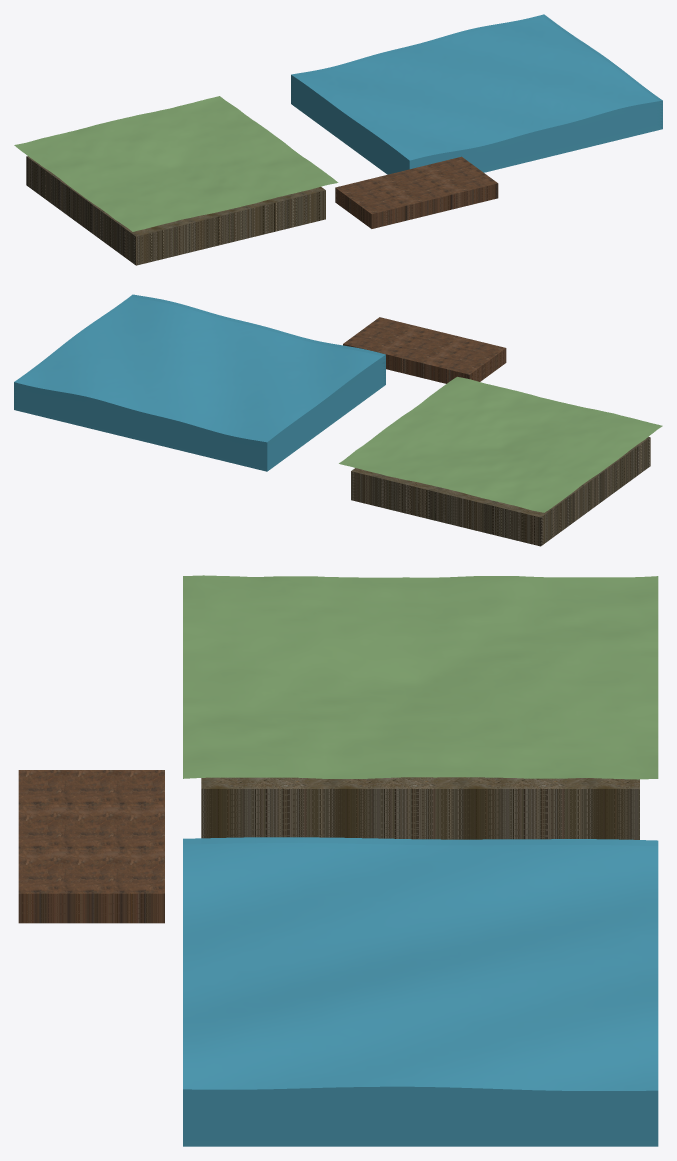
File: carbon-cycle.glb
The picture shows the model from 3 angles, top to bottom: view 1: azimuth 30°, elevation 25°; view 2: azimuth 150°, elevation 25°; view 3: azimuth 270°, elevation 25°; orthographic projection. The views are drawn at different scales.
Visible parts, largest first — view 1: Carbon_Ocean, Carbon_Forest, Carbon_Soil, Carbon_Fossil; view 2: Carbon_Ocean, Carbon_Forest, Carbon_Soil, Carbon_Fossil; view 3: Carbon_Ocean, Carbon_Forest, Carbon_Soil, Carbon_Fossil.
Boxes of the visible parts, x1,y1,x2,y2 form: Carbon_Ocean: (291, 14, 662, 174); Carbon_Forest: (14, 96, 338, 231); Carbon_Soil: (26, 156, 325, 265); Carbon_Fossil: (335, 156, 498, 228); Carbon_Ocean: (14, 294, 385, 471); Carbon_Forest: (339, 376, 662, 512); Carbon_Soil: (351, 437, 650, 546); Carbon_Fossil: (343, 317, 506, 383); Carbon_Ocean: (183, 837, 658, 1146); Carbon_Forest: (183, 575, 658, 779); Carbon_Soil: (201, 777, 639, 839); Carbon_Fossil: (18, 770, 164, 923).
Bounding box in the file's own units: 6.7 × 0.5325 × 3.5.
4 materials, 2 textured.
